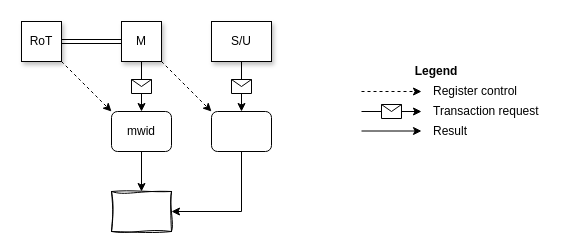
This 579x249 diagram has some shape labels left out. Each missing label, with the centre of its shape:
Accept: the point at 141,211
mlwid: the point at 241,131
